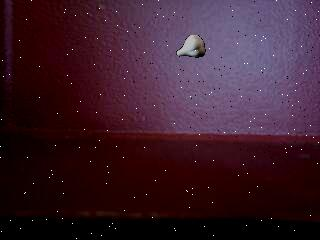Garlic: (176, 35, 205, 57)
